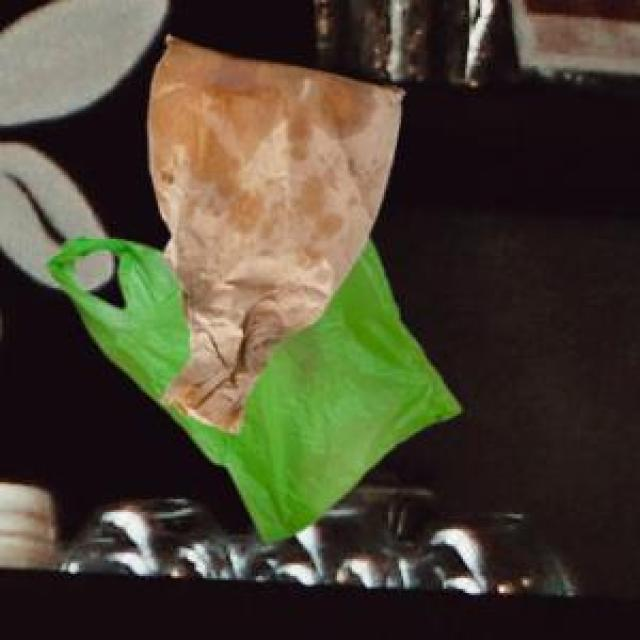paper: (143, 30, 401, 429)
